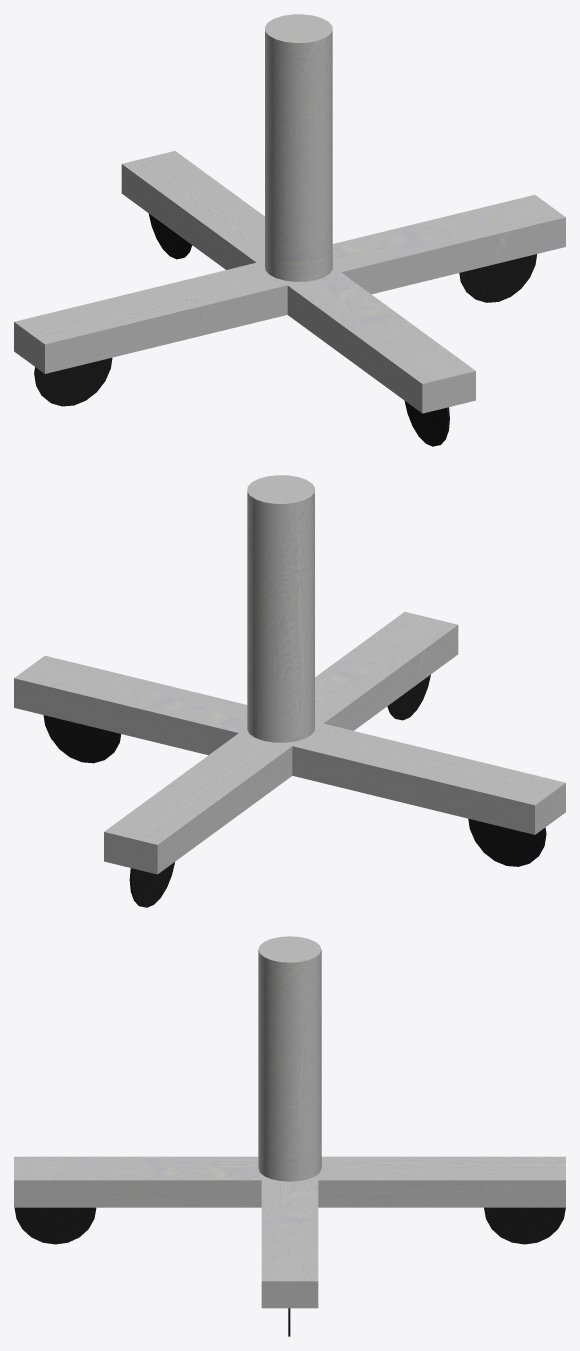
File: Silla1.obj
The picture shows the model from 3 angles, top to bottom: view 1: azimuth 30°, elevation 25°; view 2: azimuth 150°, elevation 25°; view 3: azimuth 270°, elevation 25°; orthographic projection. The views are drawn at different scales.
Parts seen in each view (by area): view 1: pCylinder6; view 2: pCylinder6; view 3: pCylinder6.
Boxes of the visible parts, bbox=[...] form: pCylinder6: bbox=[14, 14, 565, 446]; pCylinder6: bbox=[14, 475, 565, 907]; pCylinder6: bbox=[14, 936, 565, 1336].
Bounding box in the file's own units: 1 × 0.5889 × 1.
